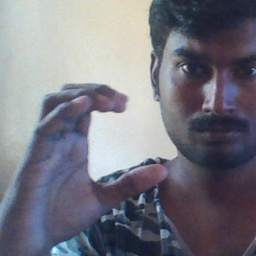C: (29, 76, 170, 207)
